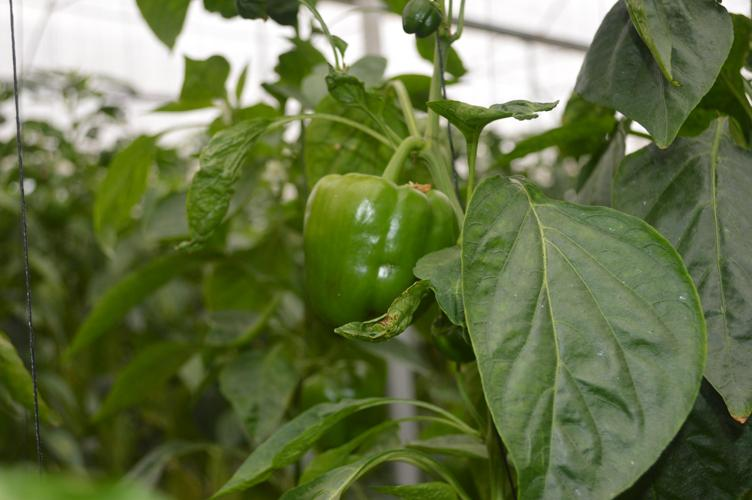BellPepper: (294, 162, 464, 333)
